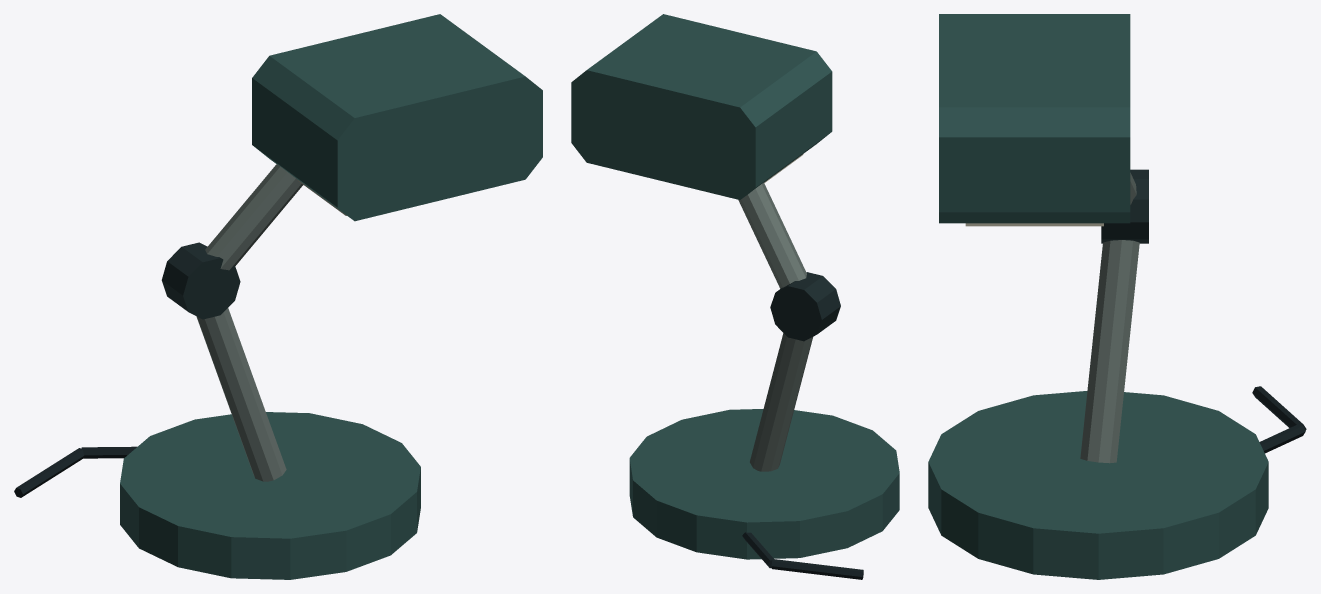
File: desk-lamp.glb
The picture shows the model from 3 angles, left to right: view 1: azimuth 30°, elevation 25°; view 2: azimuth 150°, elevation 25°; view 3: azimuth 270°, elevation 25°; orthographic projection. The views are drawn at different scales.
Parts seen in each view (by area): view 1: desk-lamp; view 2: desk-lamp; view 3: desk-lamp.
Part boxes in pixels (left/top/right/bottom): desk-lamp: left=14, top=14, right=542, bottom=579; desk-lamp: left=571, top=14, right=899, bottom=579; desk-lamp: left=928, top=14, right=1306, bottom=579.
Size of the model in its own units: 0.4672 by 0.52 by 0.3556.
